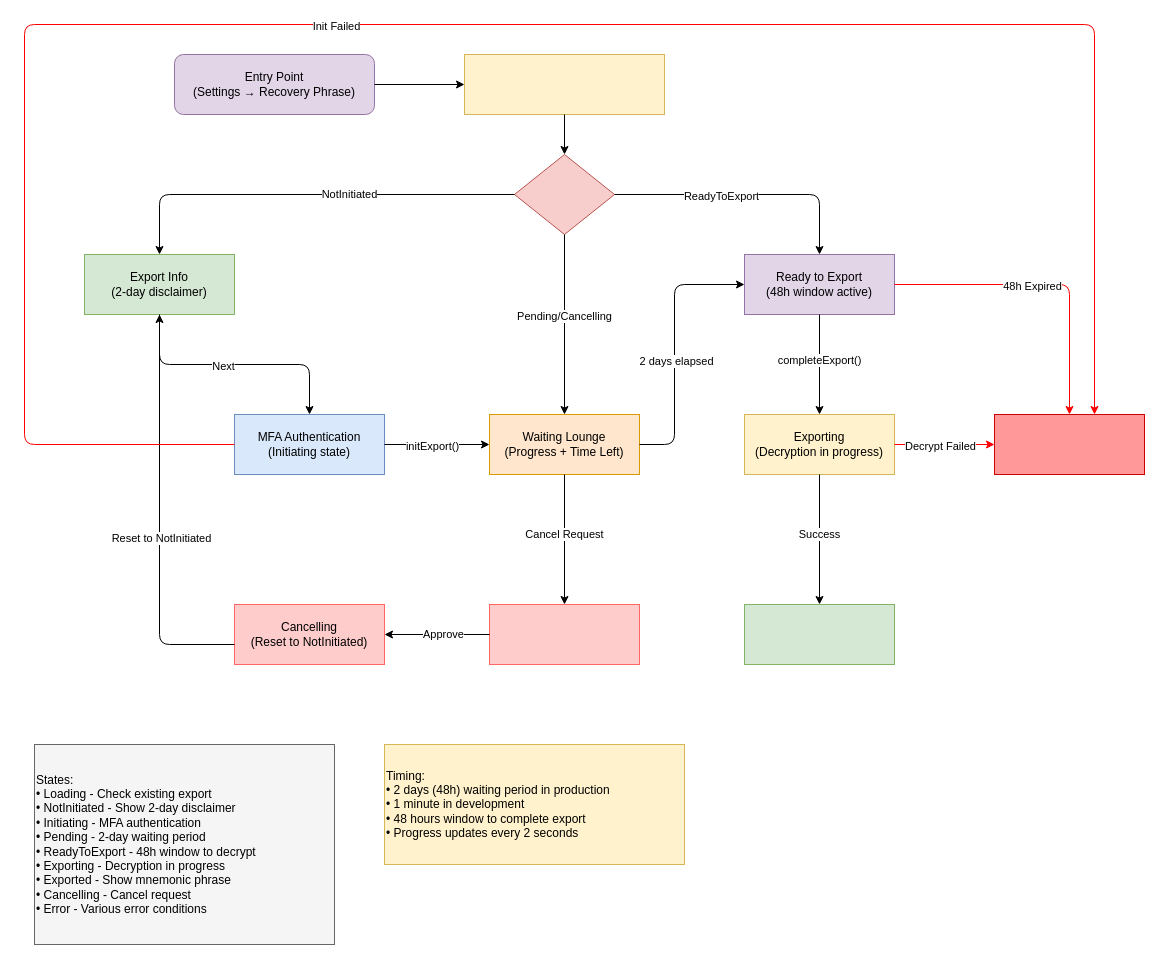
Some shapes in this 1162 by 962 pixel diagram are drawn without their labels. Here are the shapes that lost their labels. From the top down, the centre of each, then its label:
At pixel 564 84: "Loading (Check existing export state)".
At pixel 564 194: "Export State?".
At pixel 1069 444: "Error State (Various error types)".
At pixel 564 634: "Cancel Request Confirmation".
At pixel 819 634: "Exported (Show mnemonic phrase)".
